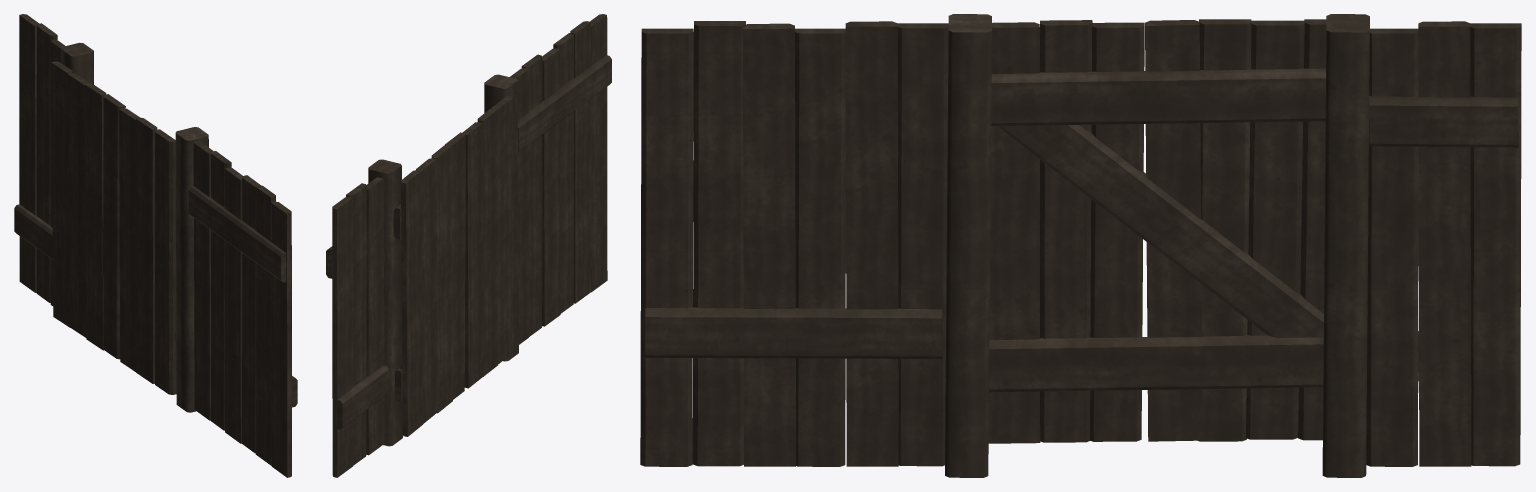
Rendered from gateway02.glb.
3 renders of one model, left to right at view 1: azimuth 30°, elevation 25°; view 2: azimuth 150°, elevation 25°; view 3: azimuth 270°, elevation 25°, orthographic. The views are drawn at different scales.
Parts seen in each view (by area): view 1: Cube.002; view 2: Cube.002; view 3: Cube.002.
Boxes of the visible parts, x1,y1,x2,y2 form: Cube.002: (14, 14, 297, 477); Cube.002: (326, 14, 611, 477); Cube.002: (640, 14, 1521, 477).
Bounding box in the file's own units: 0.4007 × 2.99 × 5.36.
1 material, 1 textured.
